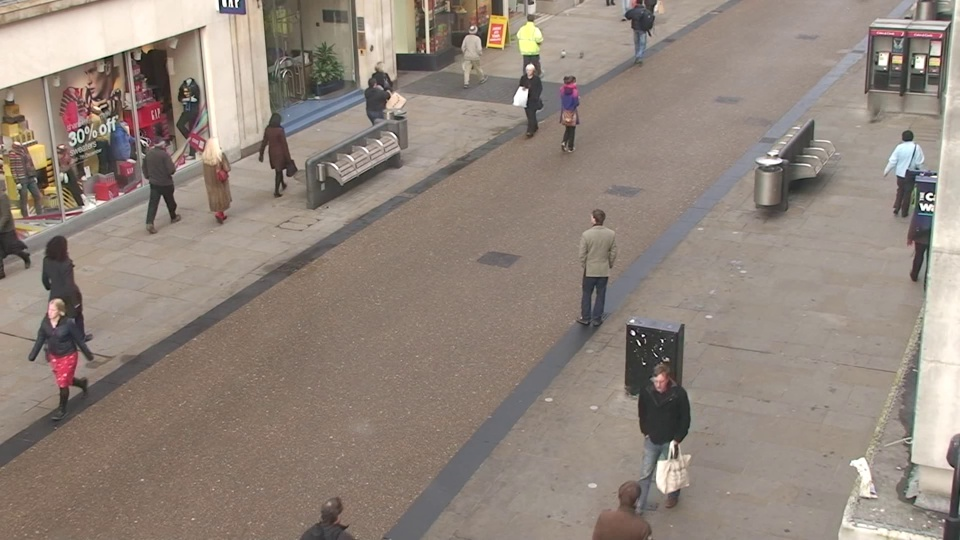pedestrian: (32, 292, 97, 432), (633, 360, 687, 518), (35, 231, 94, 355), (580, 202, 618, 323), (882, 126, 927, 227), (598, 467, 659, 540), (133, 133, 175, 230), (303, 483, 371, 540), (196, 133, 235, 231), (260, 109, 295, 201), (359, 74, 389, 157), (555, 71, 583, 155), (366, 60, 395, 139), (517, 61, 545, 142), (461, 22, 486, 92), (518, 11, 542, 78)
